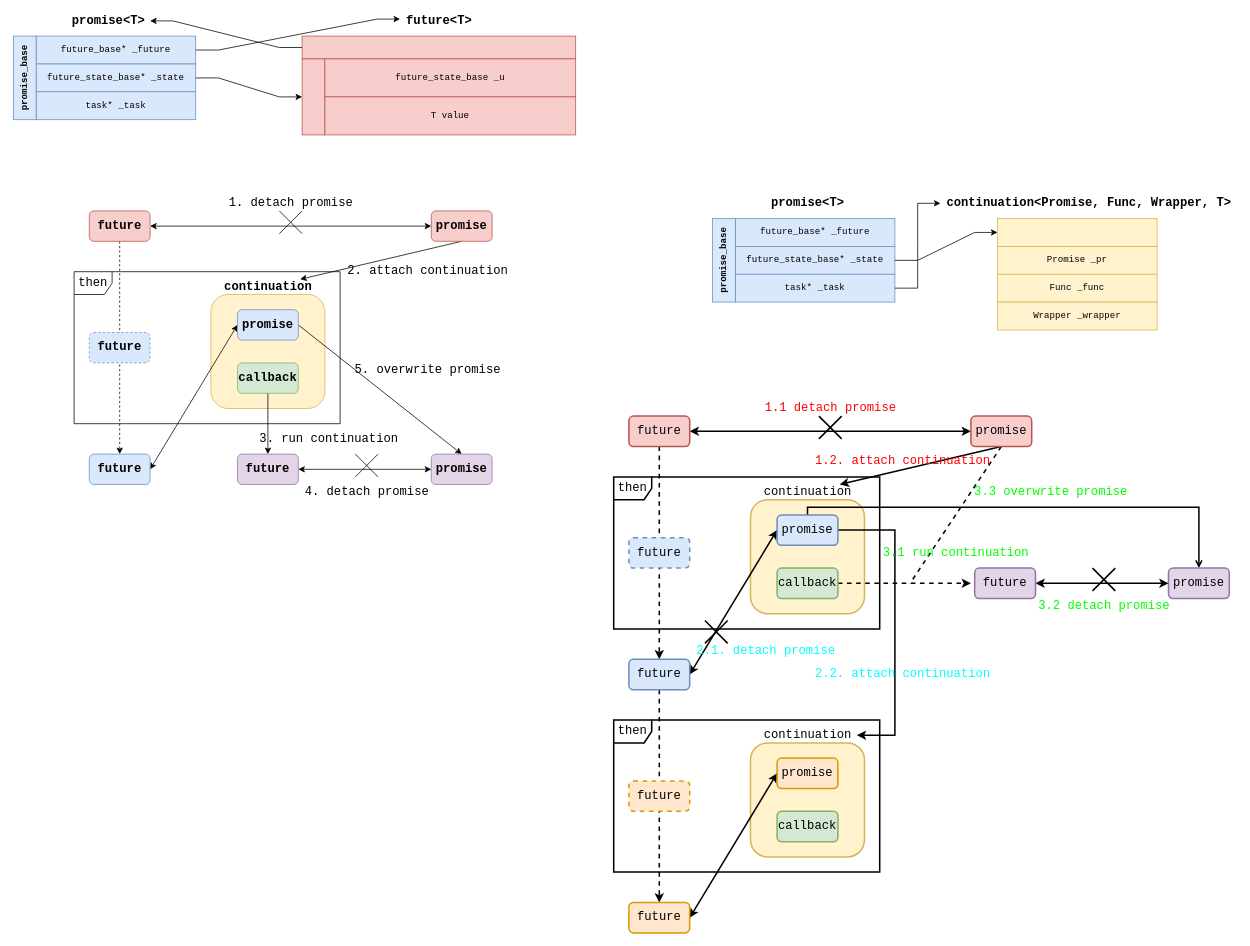
Some shapes in this 1250 by 946 pixel diagram are drawn without their labels. The shapes that lost their labels are listed below. From the top down, each one's box as (x1, y1, x2, y2) in pixels, then its label:
(301, 35, 576, 59): future_base::promise_base* _promise
(301, 58, 325, 135): future_state
(997, 218, 1157, 246): future_state _state
